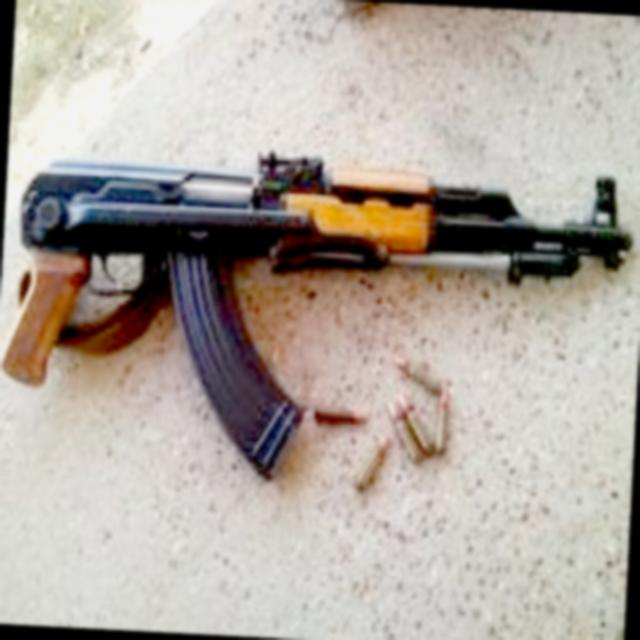ak: (5, 126, 640, 502)
